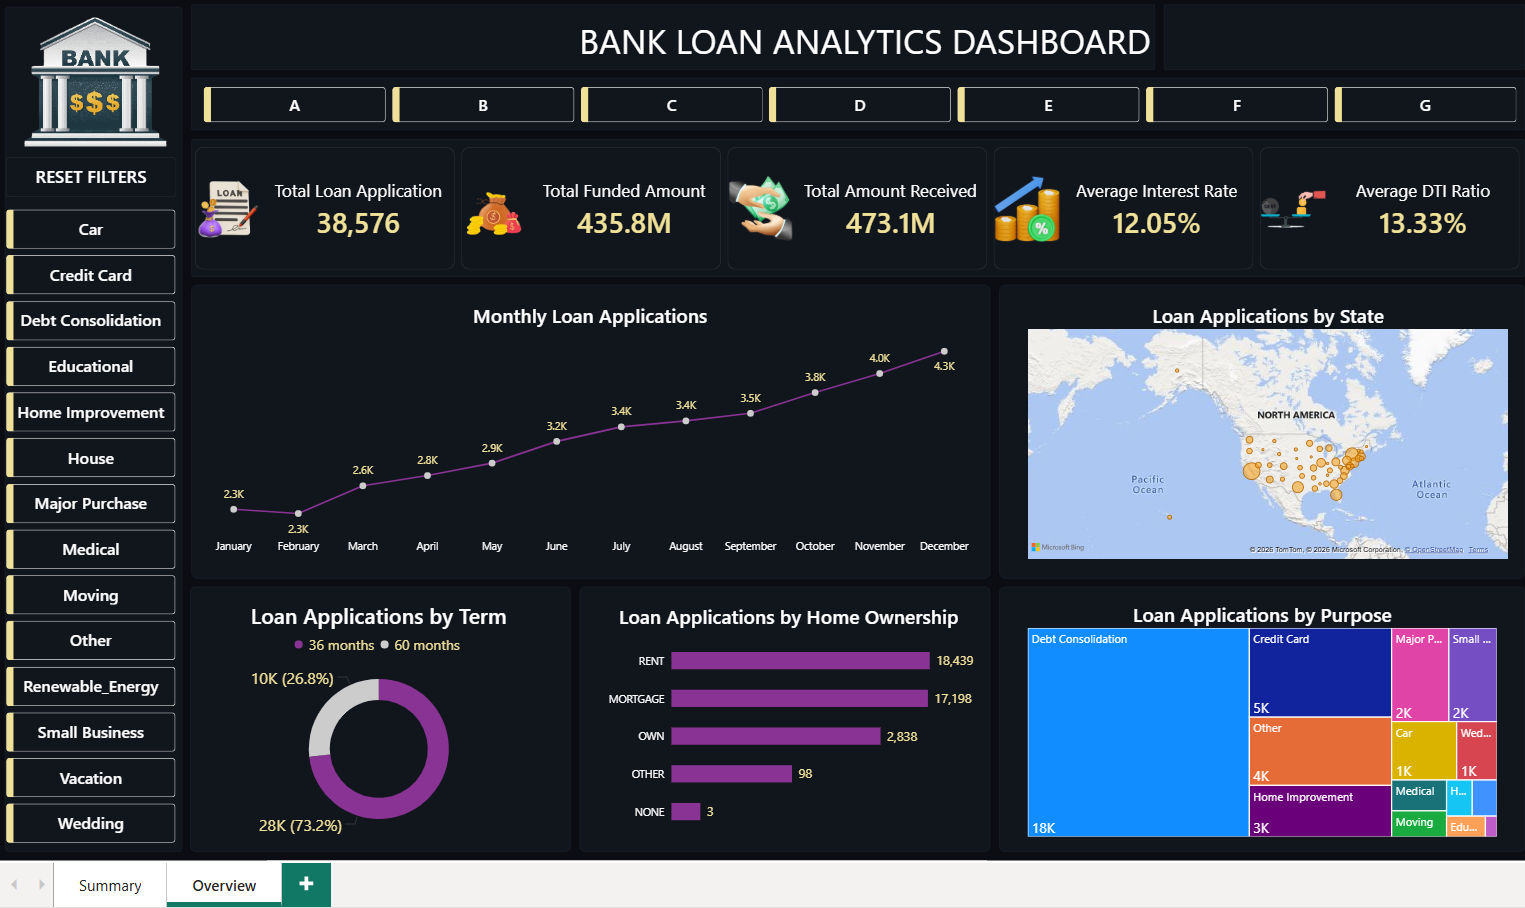

Layout of this report page (visuals, bound fields, positions):
{"tool":"powerbi","page":{"name":"Overview","canvas":[1920,1080],"ordinal":1},"visuals":[{"type":"cardVisual","fields":{"Data":["financial_loan.Total Loan Application","financial_loan.Total Funded Amount","financial_loan.Total Amount Received","financial_loan.Average Interest Rate","financial_loan.Average DTI Rate"]},"box":[250,187.8,1653.3,153.3],"z":0},{"type":"image","box":[0,0,250,210],"z":1000},{"type":"advancedSlicerVisual","fields":{"Values":["financial_loan.PURPOSE"]},"box":[14.3,264.3,211.4,802.9],"z":2000},{"type":"advancedSlicerVisual","fields":{"Values":["financial_loan.GRADE"]},"box":[260,113,1643,44],"z":3000},{"type":"actionButton","box":[14.3,200,211.4,50],"z":4000},{"type":"textbox","box":[249.4,24.9,1671.1,68.6],"z":5000},{"type":"lineChart","title":"Monthly Loan Applications","fields":{"Category":["financial_loan.ISSUE_DATE.Variation.Date Hierarchy.Month"],"Y":["financial_loan.Total Loan Application"]},"box":[250,365.7,985.7,348.6],"z":7000},{"type":"donutChart","title":"Loan Applications by Term","fields":{"Category":["financial_loan.TERM"],"Y":["financial_loan.Total Loan Application"]},"box":[250,738.6,458.6,328.6],"z":8000},{"type":"clusteredBarChart","title":"Loan Applications by Home Ownership","fields":{"Category":["financial_loan.HOME_OWNERSHIP"],"Y":["financial_loan.Total Loan Application"]},"box":[742.9,741.4,492.9,321.4],"z":9000},{"type":"treemap","title":"Loan Applications by Purpose","fields":{"Group":["financial_loan.PURPOSE"],"Values":["financial_loan.Total Loan Application"]},"box":[1271.4,738.6,617.1,324.3],"z":10000},{"type":"filledMap","title":"Loan Applications by State","fields":{"Category":["financial_loan.ADDRESS_STATE"]},"box":[1271.4,365.7,631.4,350],"z":11000}]}

Visuals, with their boxes on the page's 1920x1080 design canvas (x1, y1, x2, y2). These are canvas units, not pixel positions in the 1525x908 screenshot, which may show the page scaled, cropped or inside an application window:
cardVisual - financial_loan.Total Loan Application x financial_loan.Total Funded Amount: Rect(250, 188, 1903, 341)
image: Rect(0, 0, 250, 210)
advancedSlicerVisual - financial_loan.PURPOSE: Rect(14, 264, 226, 1067)
advancedSlicerVisual - financial_loan.GRADE: Rect(260, 113, 1903, 157)
actionButton: Rect(14, 200, 226, 250)
textbox: Rect(249, 25, 1920, 94)
"Monthly Loan Applications" lineChart: Rect(250, 366, 1236, 714)
"Loan Applications by Term" donutChart: Rect(250, 739, 709, 1067)
"Loan Applications by Home Ownership" clusteredBarChart: Rect(743, 741, 1236, 1063)
"Loan Applications by Purpose" treemap: Rect(1271, 739, 1888, 1063)
"Loan Applications by State" filledMap: Rect(1271, 366, 1903, 716)
